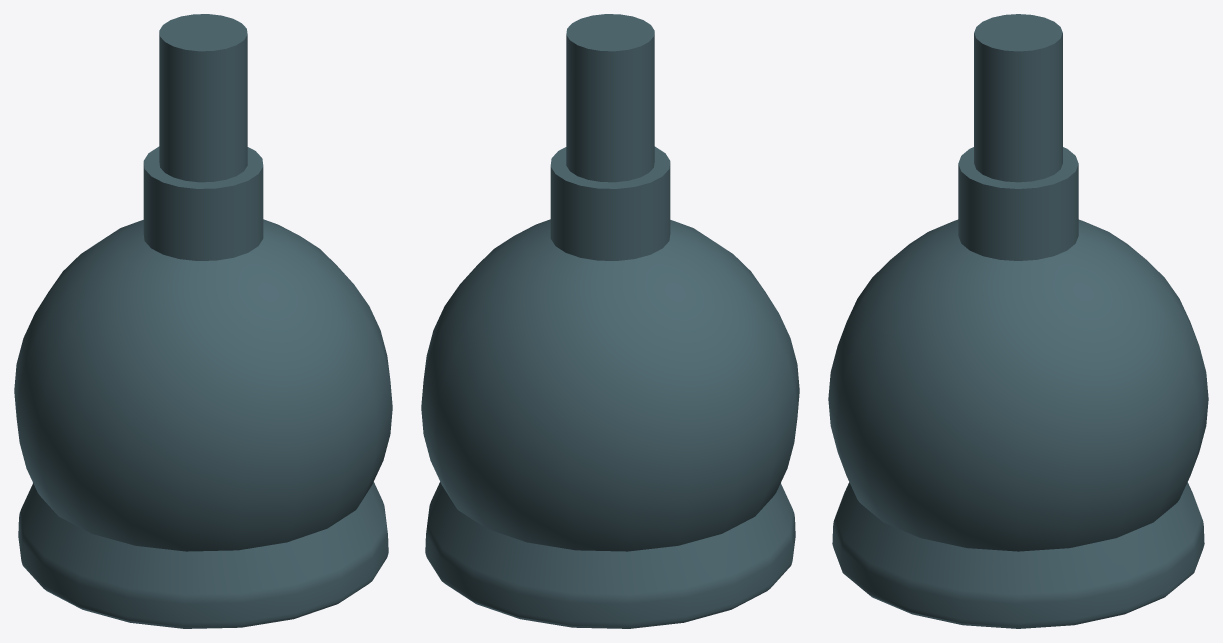
The model's file is liquids.fbx.
3 renders of one model, left to right at view 1: azimuth 30°, elevation 25°; view 2: azimuth 150°, elevation 25°; view 3: azimuth 270°, elevation 25°, orthographic.
Visible parts, largest first — view 1: florence_flask3, Erlenmeyer_flask3, Glass_Lab_test_tube6; view 2: florence_flask3, Erlenmeyer_flask3, Glass_Lab_test_tube6; view 3: florence_flask3, Erlenmeyer_flask3, Glass_Lab_test_tube6.
Part boxes in pixels (x1,y1,x2,y2): florence_flask3: [14, 146, 392, 551]; Erlenmeyer_flask3: [18, 482, 388, 628]; Glass_Lab_test_tube6: [159, 14, 247, 182]; florence_flask3: [421, 146, 799, 551]; Erlenmeyer_flask3: [425, 482, 795, 628]; Glass_Lab_test_tube6: [566, 14, 654, 182]; florence_flask3: [828, 147, 1208, 551]; Erlenmeyer_flask3: [832, 482, 1204, 628]; Glass_Lab_test_tube6: [974, 14, 1062, 182].
Size of the model in its own units: 13.29 by 20.77 by 13.29.
